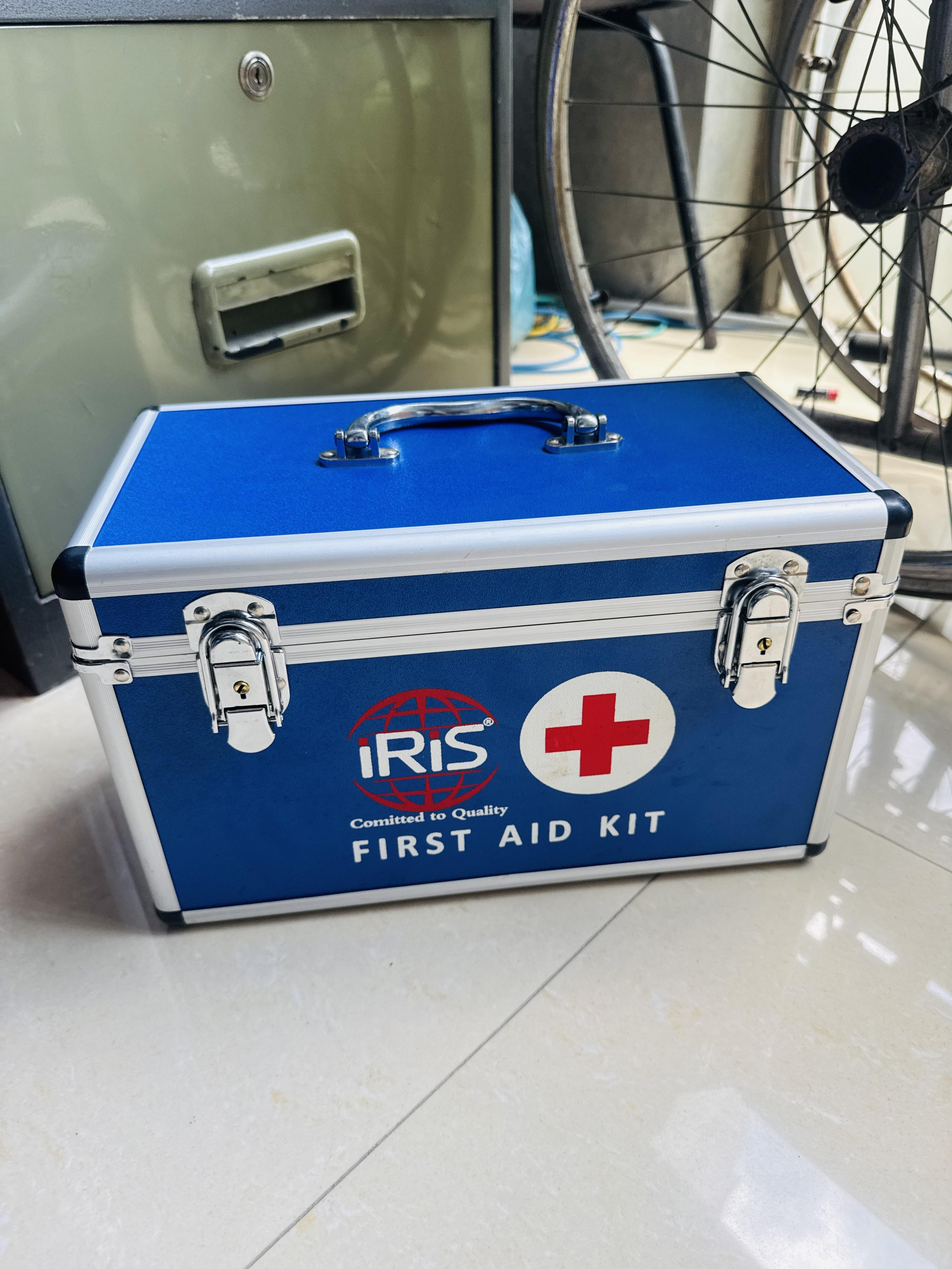FirstAidBox: (30, 352, 943, 950)
